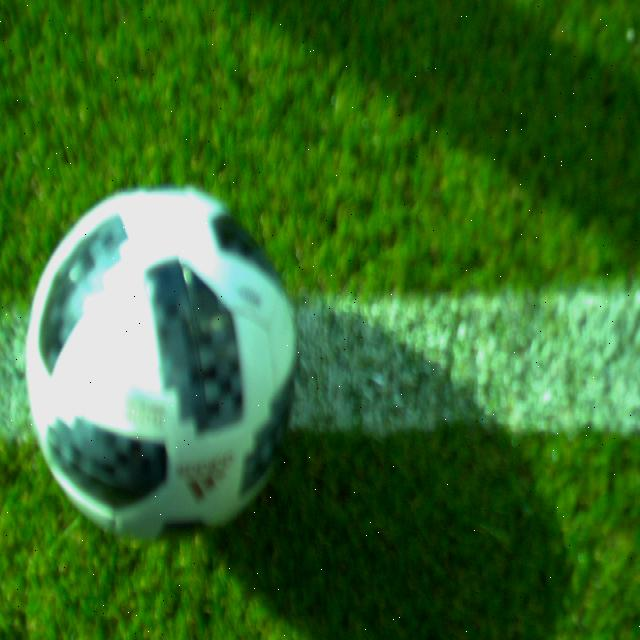ball: (24, 188, 297, 541)
